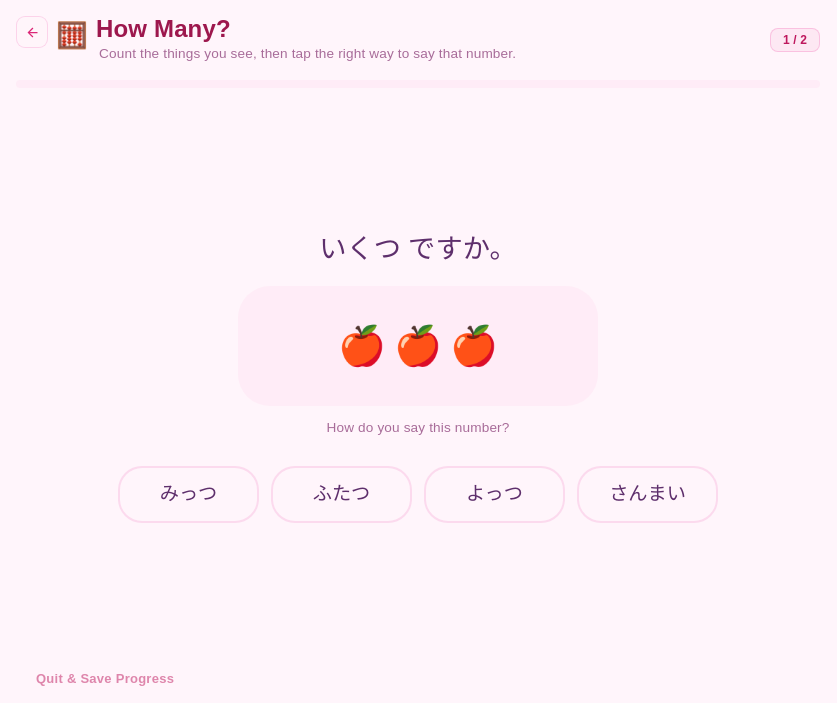
Test case: CounterGame › shows the correct reading after a wrong tap
The width and height of the screenshot is (837, 703).
Click the button "さんまい".
click(648, 494)  # box [577, 466, 718, 523]
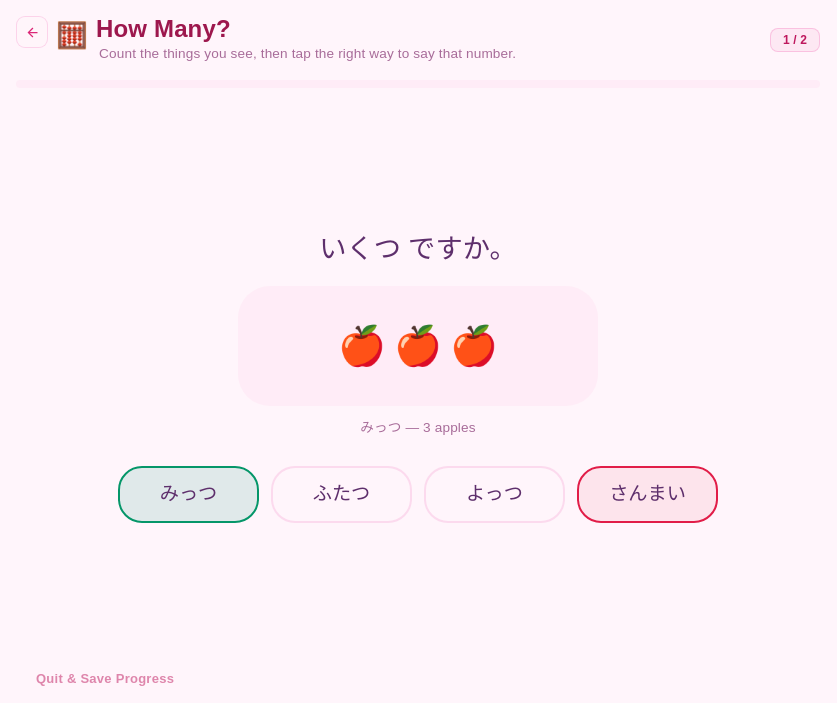
Check: the text "みっつ — 3 apples" is shown, box [360, 420, 476, 435]
